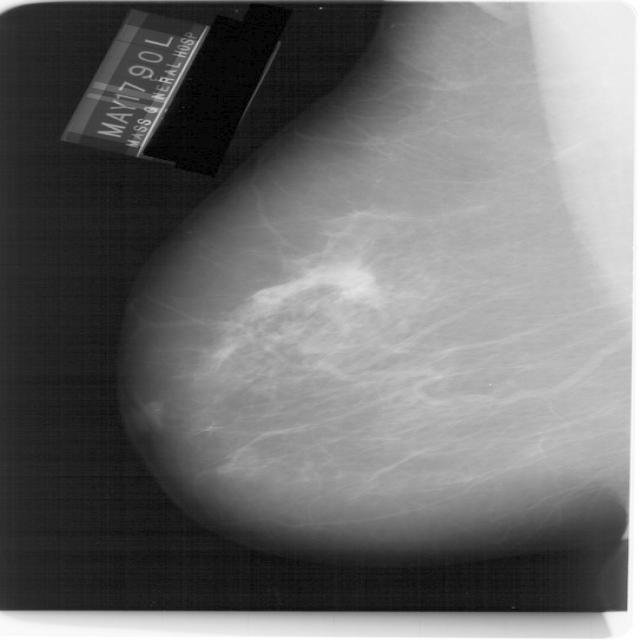tumour: (290, 264, 382, 301)
